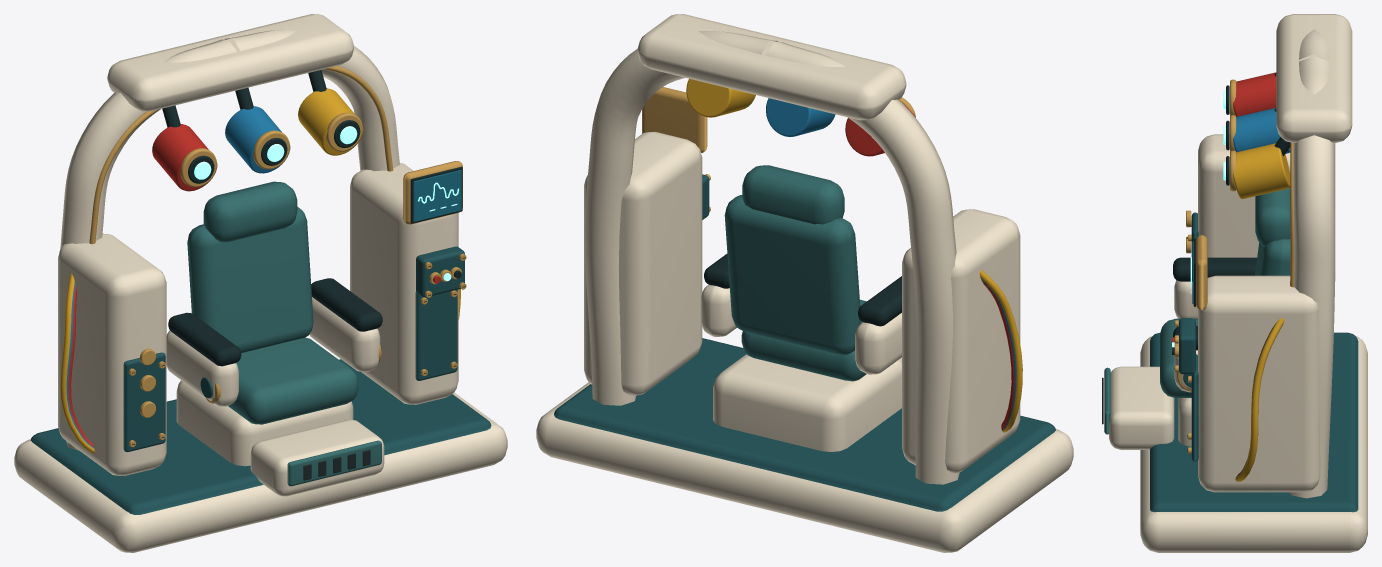
The model's file is sensory.glb.
The picture shows the model from 3 angles, left to right: view 1: azimuth 30°, elevation 25°; view 2: azimuth 150°, elevation 25°; view 3: azimuth 270°, elevation 25°; orthographic projection. The views are drawn at different scales.
Parts seen in each view (by area): view 1: ivory.004, cushion.004, teal.004, dark.004, brass.004, yellow.004, red.004, blue.004, display.004, signal.004, rubber.004; view 2: ivory.004, cushion.004, teal.004, yellow.004, brass.004, blue.004, dark.004, red.004; view 3: ivory.004, teal.004, cushion.004, yellow.004, brass.004, dark.004, blue.004, red.004.
Boxes of the visible parts, x1,y1,x2,y2 form: ivory.004: (14,14,507,552); cushion.004: (187,181,381,486); teal.004: (30,246,491,514); dark.004: (132,70,465,444); brass.004: (89,66,466,447); yellow.004: (60,88,460,453); red.004: (68,124,440,446); blue.004: (66,106,290,448); display.004: (413,170,461,221); signal.004: (194,126,459,280); rubber.004: (303,449,370,480); ivory.004: (536,14,1073,552); cushion.004: (724,165,866,381); teal.004: (554,174,1055,511); yellow.004: (686,78,1022,432); brass.004: (642,87,915,211); blue.004: (766,98,1016,430); dark.004: (704,254,901,326); red.004: (845,105,1014,429); ivory.004: (1109,14,1367,552); teal.004: (1150,212,1358,512); cushion.004: (1104,188,1290,434); yellow.004: (1233,143,1290,481); brass.004: (1174,79,1294,453); dark.004: (1172,72,1290,451); blue.004: (1233,108,1290,475); red.004: (1172,72,1276,474).
Size of the model in its own units: 1.75 by 1.72 by 1.02.
